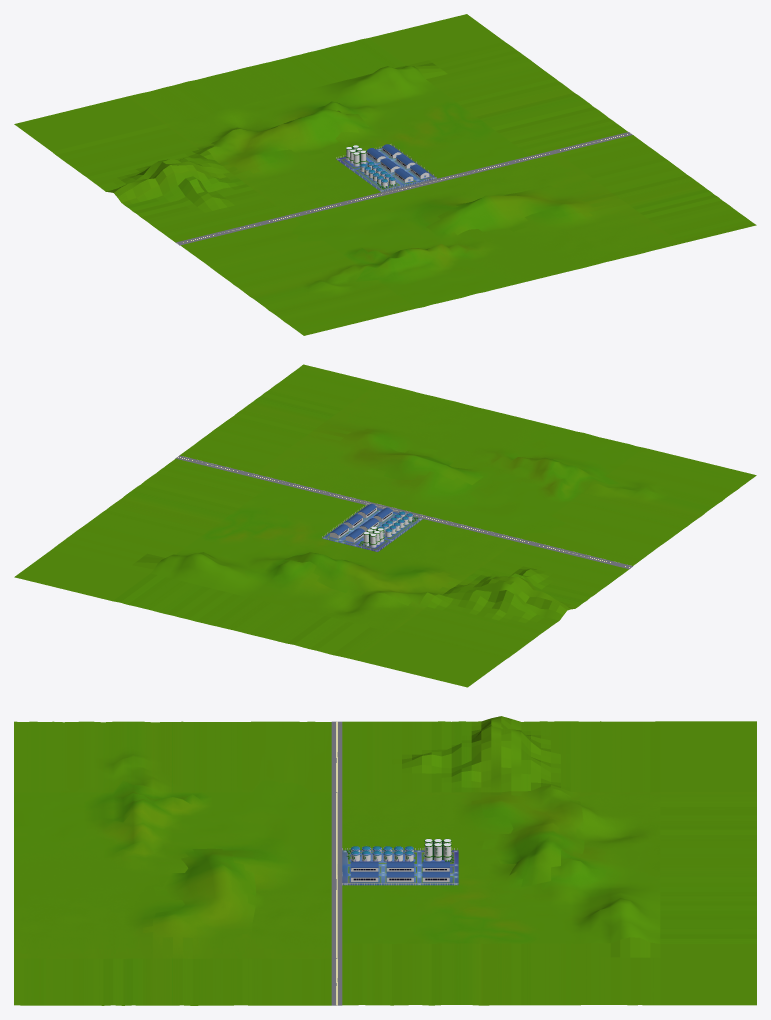
3 renders of one model, top to bottom at view 1: azimuth 30°, elevation 25°; view 2: azimuth 150°, elevation 25°; view 3: azimuth 270°, elevation 25°, orthographic. The views are drawn at different scales.
Parts seen in each view (by area): view 1: ??.005, ??.004, ??.003; view 2: ??.005, ??.004, ??.003; view 3: ??.005, ??.004, ??.003.
Boxes of the visible parts, bbox=[...] form: ??.005: bbox=[14, 14, 756, 335]; ??.004: bbox=[175, 132, 632, 245]; ??.003: bbox=[336, 145, 436, 192]; ??.005: bbox=[14, 364, 756, 687]; ??.004: bbox=[175, 455, 632, 569]; ??.003: bbox=[322, 505, 422, 551]; ??.005: bbox=[14, 716, 756, 1005]; ??.004: bbox=[331, 721, 342, 1005]; ??.003: bbox=[342, 850, 458, 885].
Bounding box in the file's own units: 1503 × 87.23 × 1662.
Materials: 10 (6 with a texture image).
